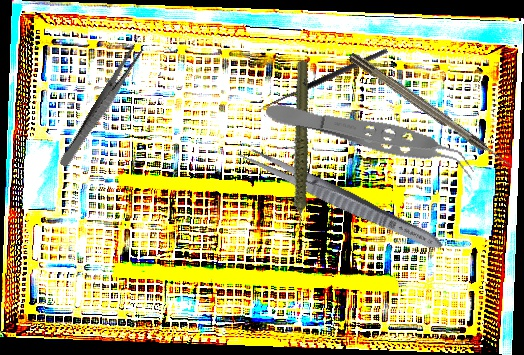Dressing Forceps: (233, 141, 449, 257), (57, 42, 146, 171)
Handpiece: (252, 57, 345, 240)
Hook Surgical: (348, 50, 515, 172), (259, 47, 392, 118)
Tissue Forceps: (261, 93, 481, 181)
